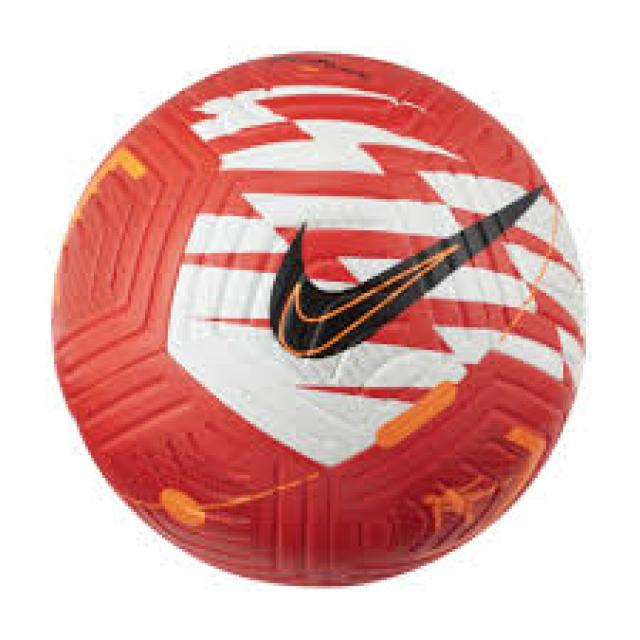football: (51, 52, 583, 598)
